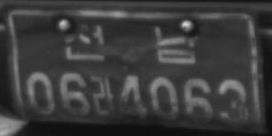0: (149, 75, 180, 123), (25, 70, 56, 117)
3: (215, 77, 250, 128)
4: (117, 73, 149, 120)
6: (181, 75, 215, 127), (57, 70, 91, 118)
라: (91, 73, 117, 119)
전남_D: (61, 19, 199, 65)
